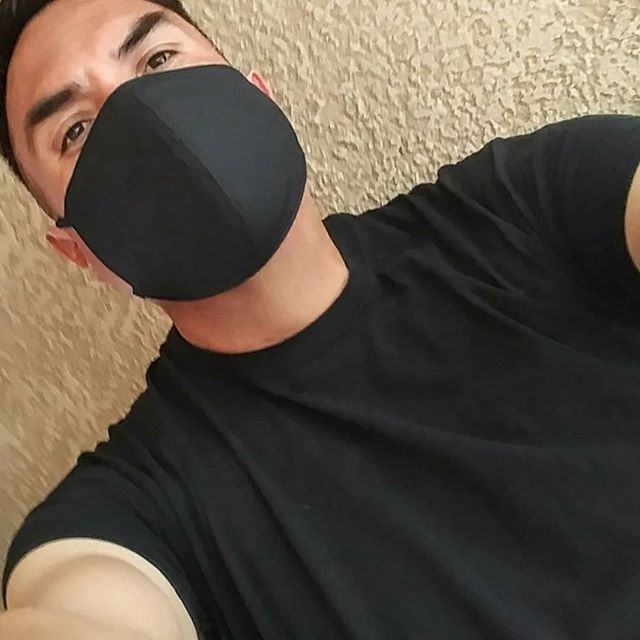homemade: (49, 60, 326, 312)
